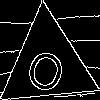O: (22, 38, 72, 96)
